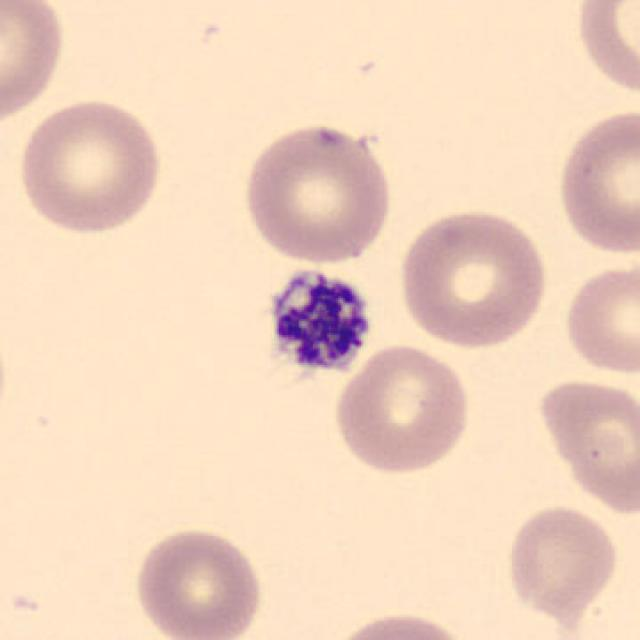Platelets: (250, 257, 380, 397)
RBC: (238, 118, 396, 268), (395, 204, 553, 351), (15, 95, 166, 236), (330, 340, 474, 478), (128, 523, 266, 640), (531, 372, 640, 516), (503, 501, 622, 619), (553, 104, 638, 257), (558, 259, 638, 379), (0, 0, 69, 127), (570, 0, 640, 102), (320, 608, 473, 640)
